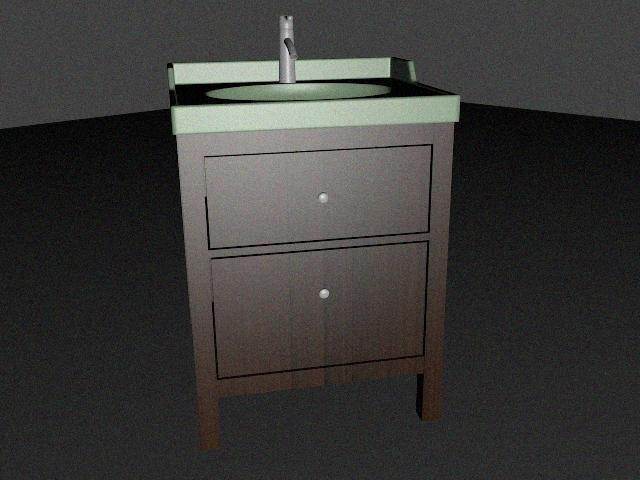cabinet_door: (214, 251, 426, 368), (207, 152, 430, 240)
handle: (313, 282, 335, 306), (312, 186, 334, 209)
